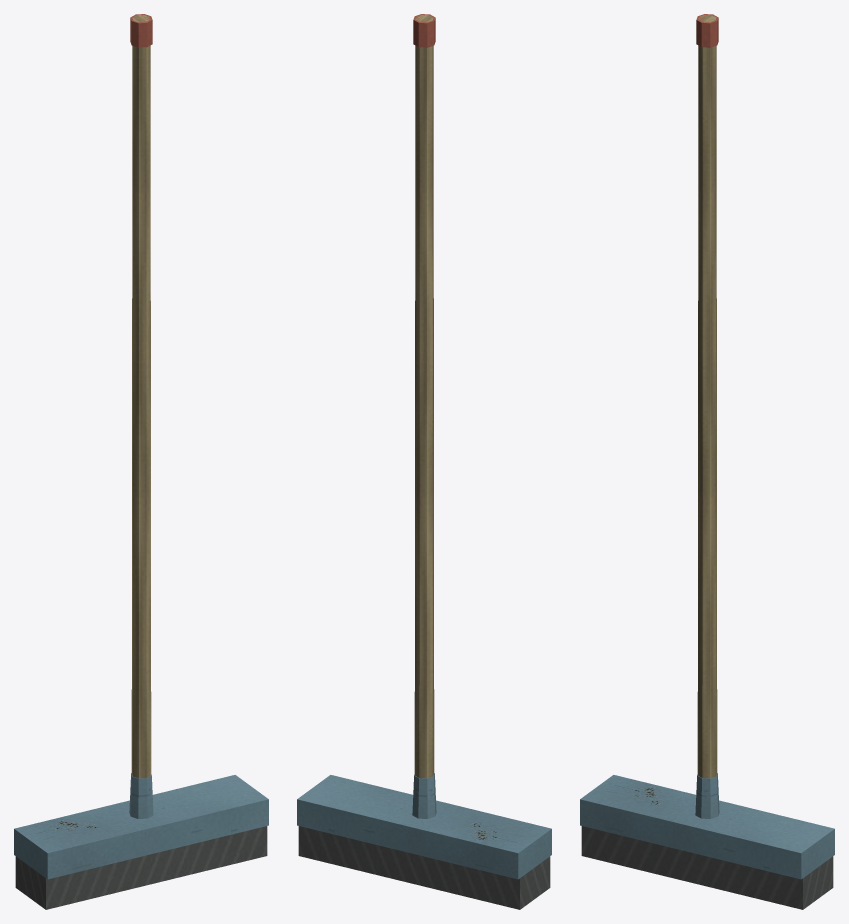
The model's file is broom_v1.glb.
3 renders of one model, left to right at view 1: azimuth 30°, elevation 25°; view 2: azimuth 150°, elevation 25°; view 3: azimuth 330°, elevation 25°, orthographic.
Parts seen in each view (by area): view 1: Variant_broom_1; view 2: Variant_broom_1; view 3: Variant_broom_1.
Part boxes in pixels (box(x1,y1,x2,y2)): Variant_broom_1: box(14, 14, 268, 909); Variant_broom_1: box(297, 14, 551, 909); Variant_broom_1: box(580, 14, 834, 909).
Size of the model in its own units: 0.38 by 1.4 by 0.1.
4 materials, 4 textured.
